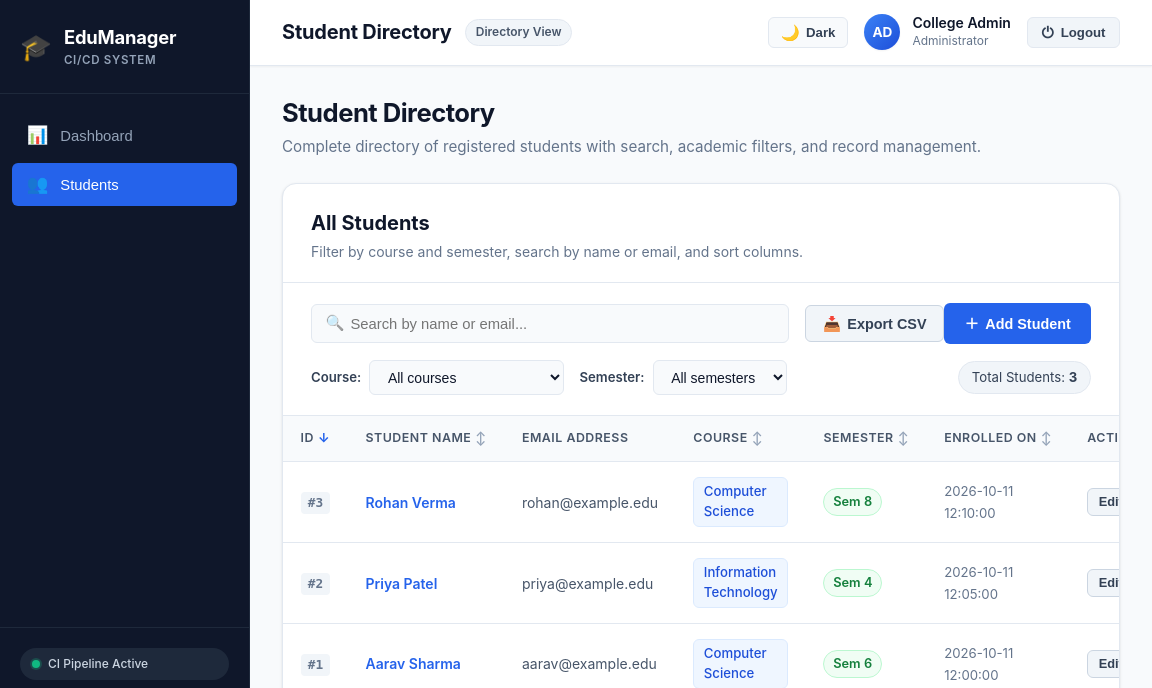
Test: Student Management System - Frontend Tests › displays contextual empty state when no students match active filters
This screenshot has width=1152, height=688.
expect the button "Aarav Sharma" is shown: met, box [366,656,461,672]
Type "Nonexistent Student" into the search field with placeholder "Search by name or email..." at [550, 324], box [311,304,789,343]
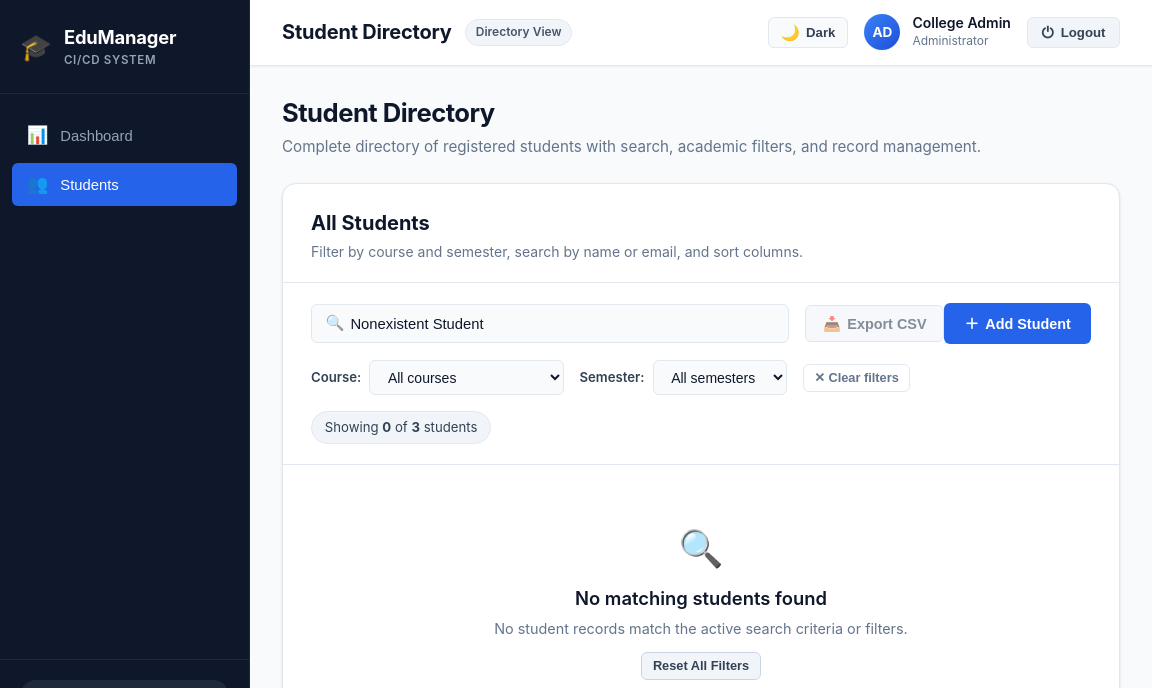
expect the heading "No matching students found" is shown: met, box [575,587,827,609]
expect the text "No student records match the active search" is shown: met, box [494,620,908,637]
